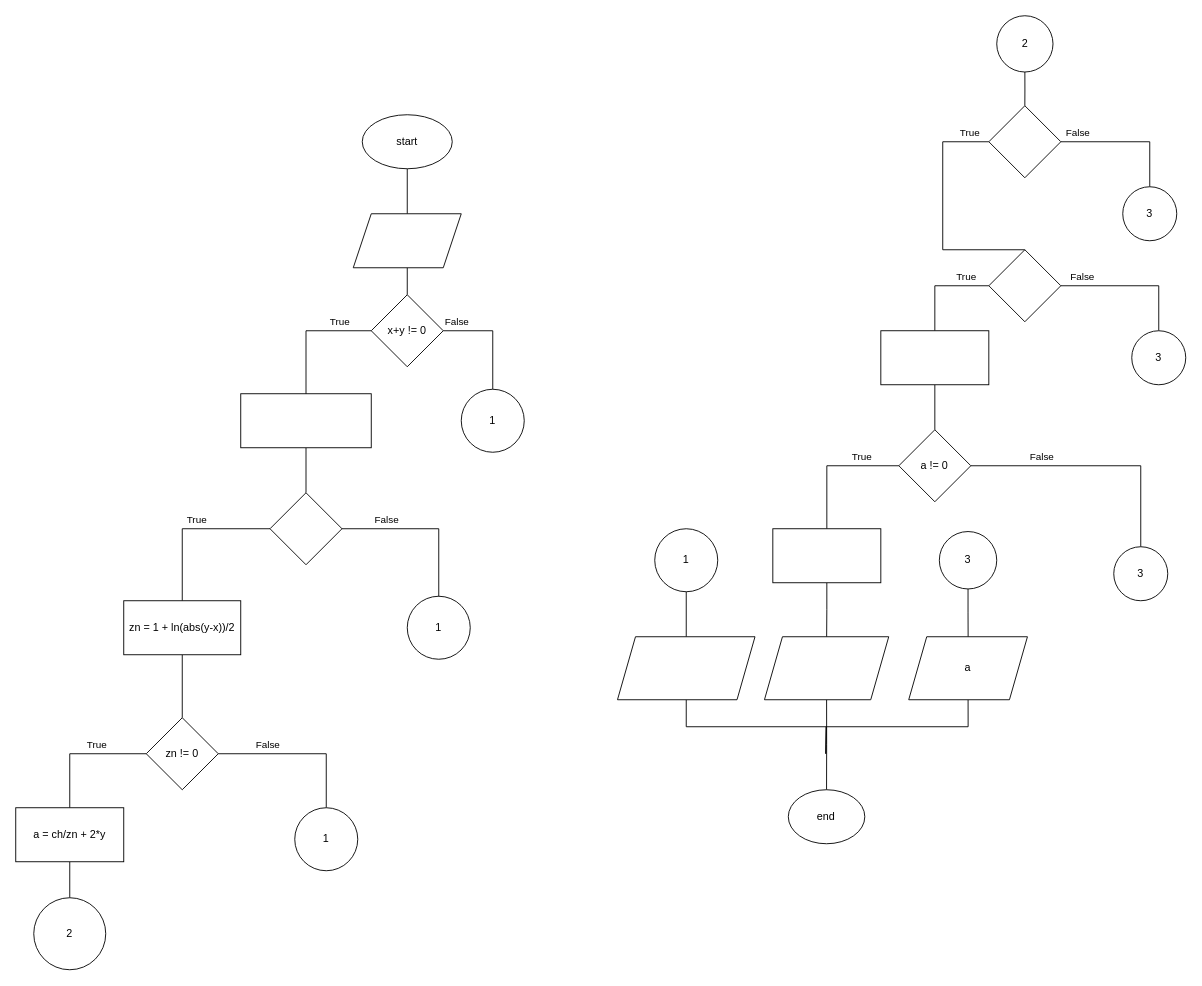
This 1202x986 diagram has some shape labels left out. Each missing label, with the centre of its shape:
"a+z > 0" goes at [1024,285].
"a,b" goes at [826,668].
"ch = lg(abs(x+y))" goes at [305,420].
"ch = ln(a+z)" goes at [934,357].
"x >= 0" goes at [1024,141].
"x,y,z є R" goes at [406,240].
"y-x != 0" goes at [305,528].
"zn = a*a b = ch/zn + pow(x,-a)" goes at [826,555].
"Таких значень не існує" goes at [686,668].
